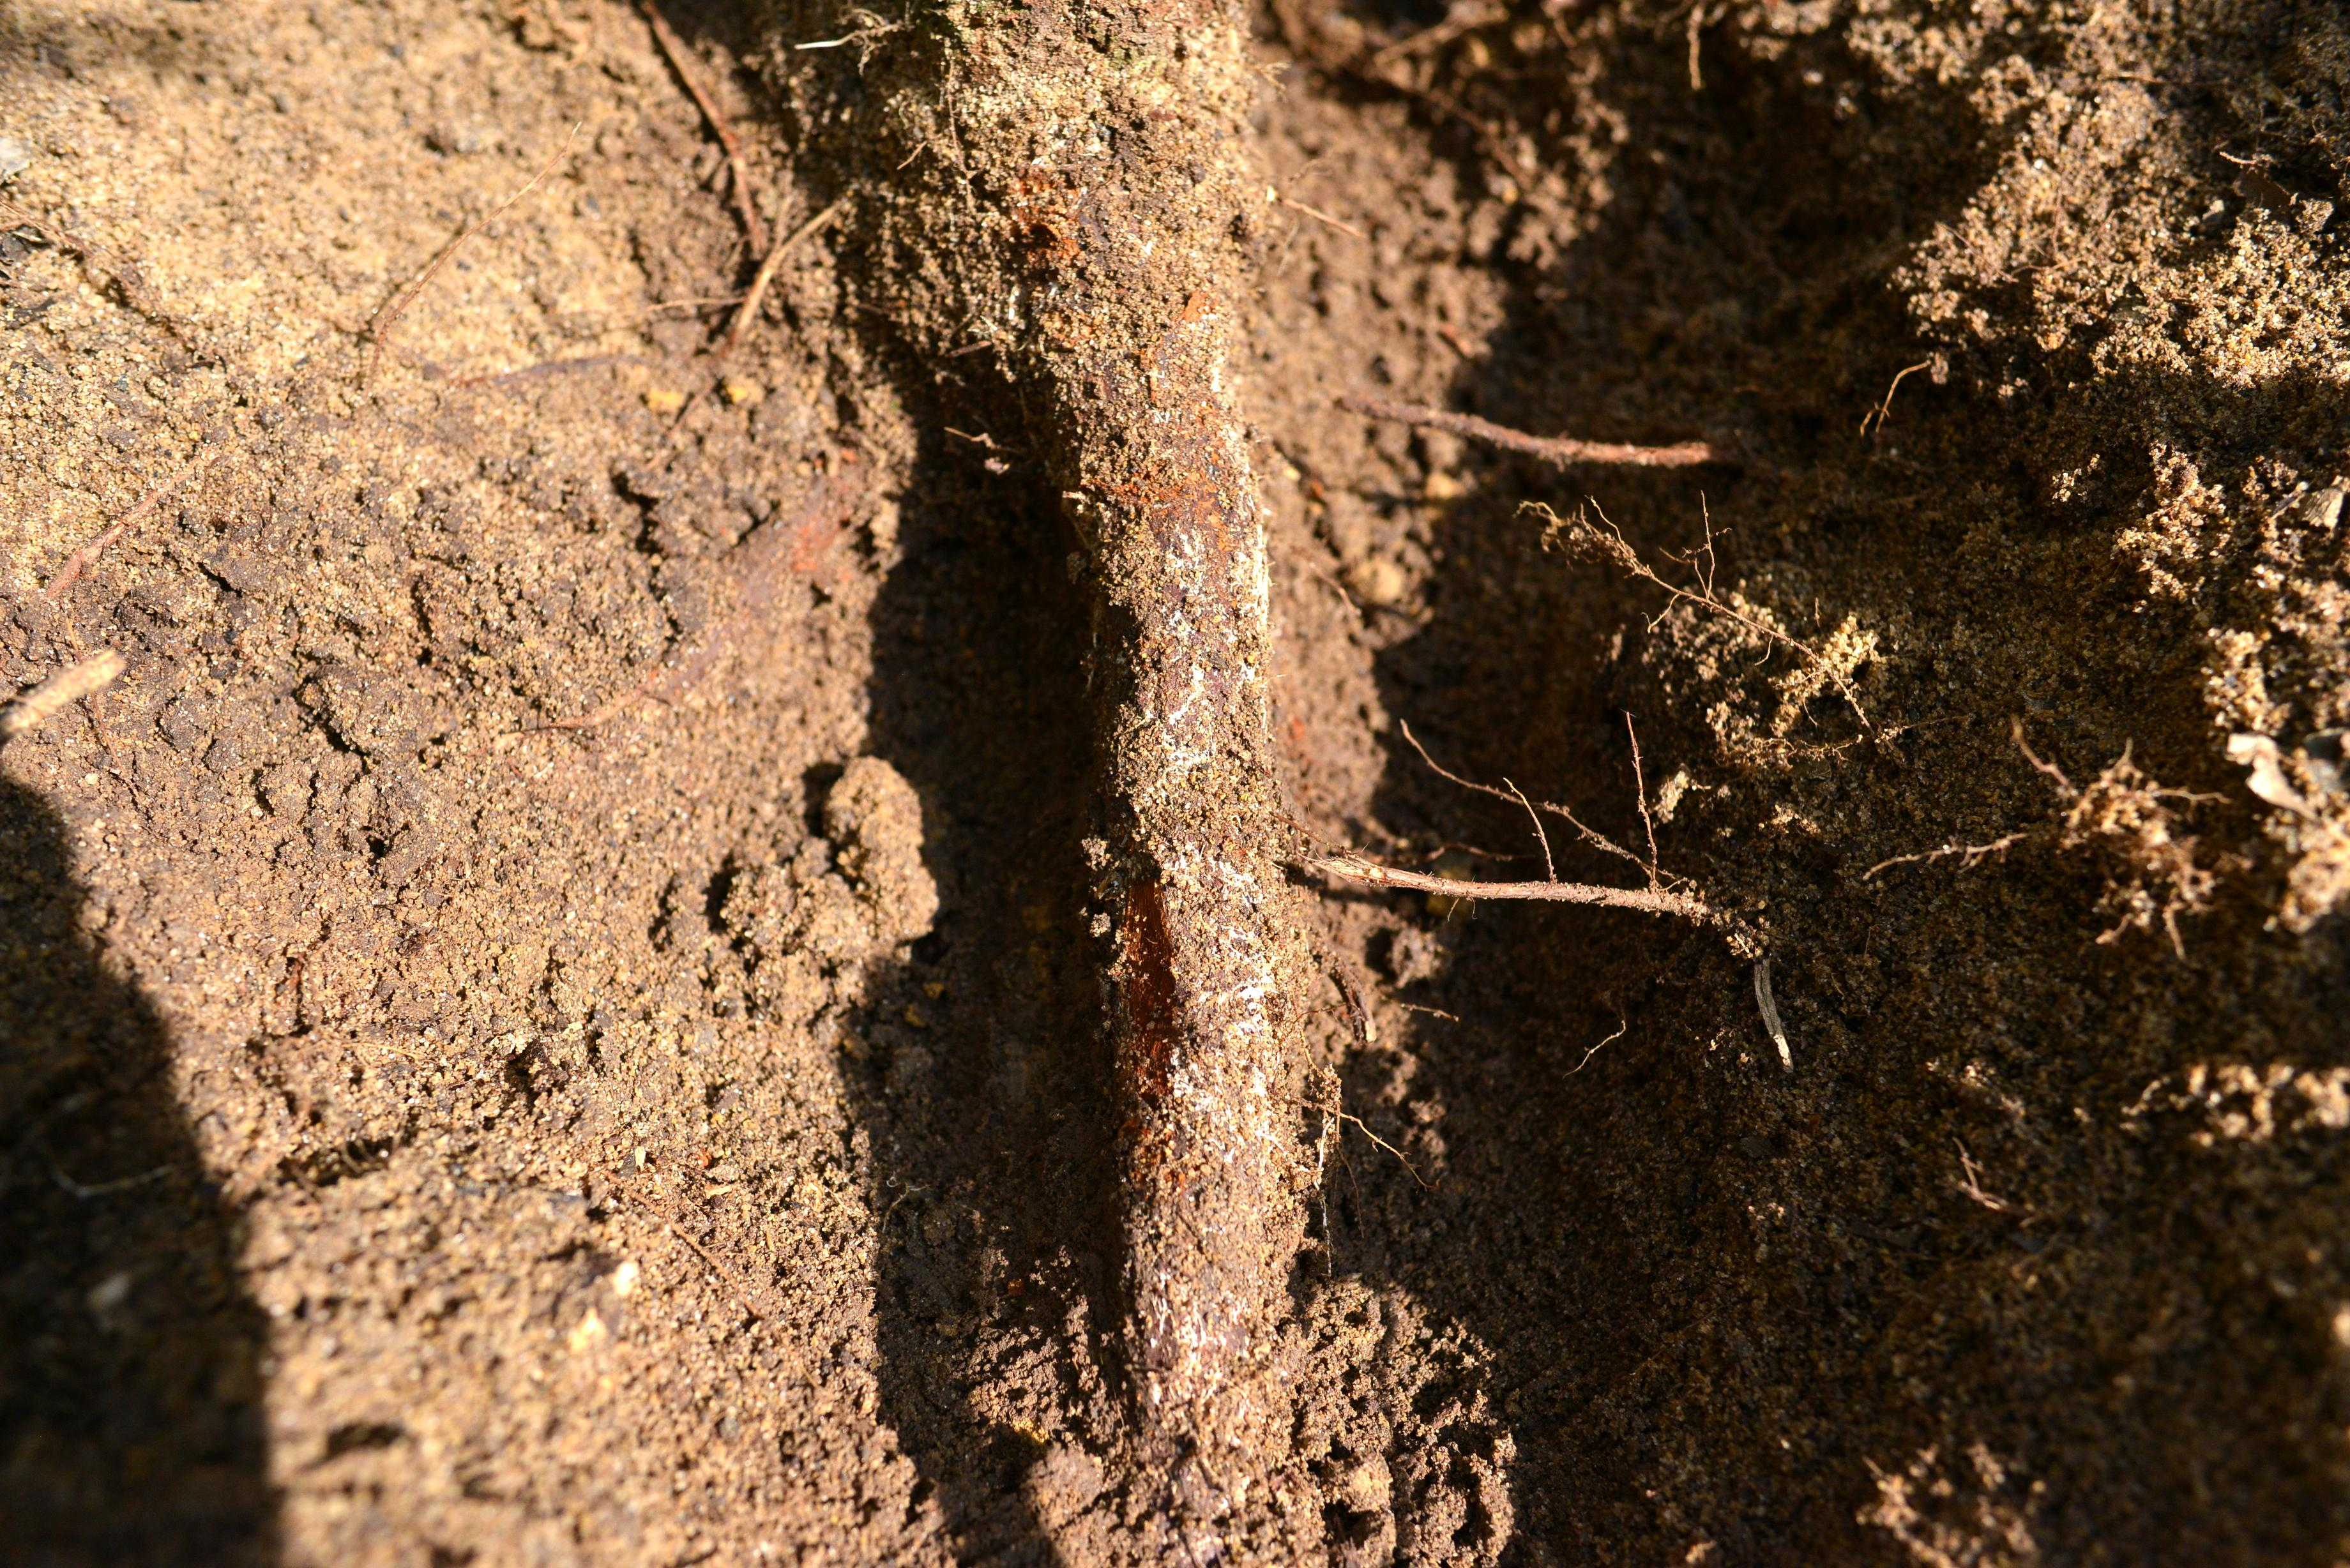Ganoderma - Mycelium: (1073, 138, 1284, 1442)
